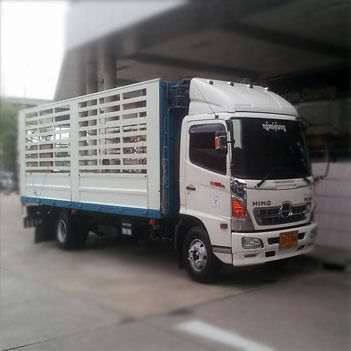truck: (44, 77, 322, 281)
